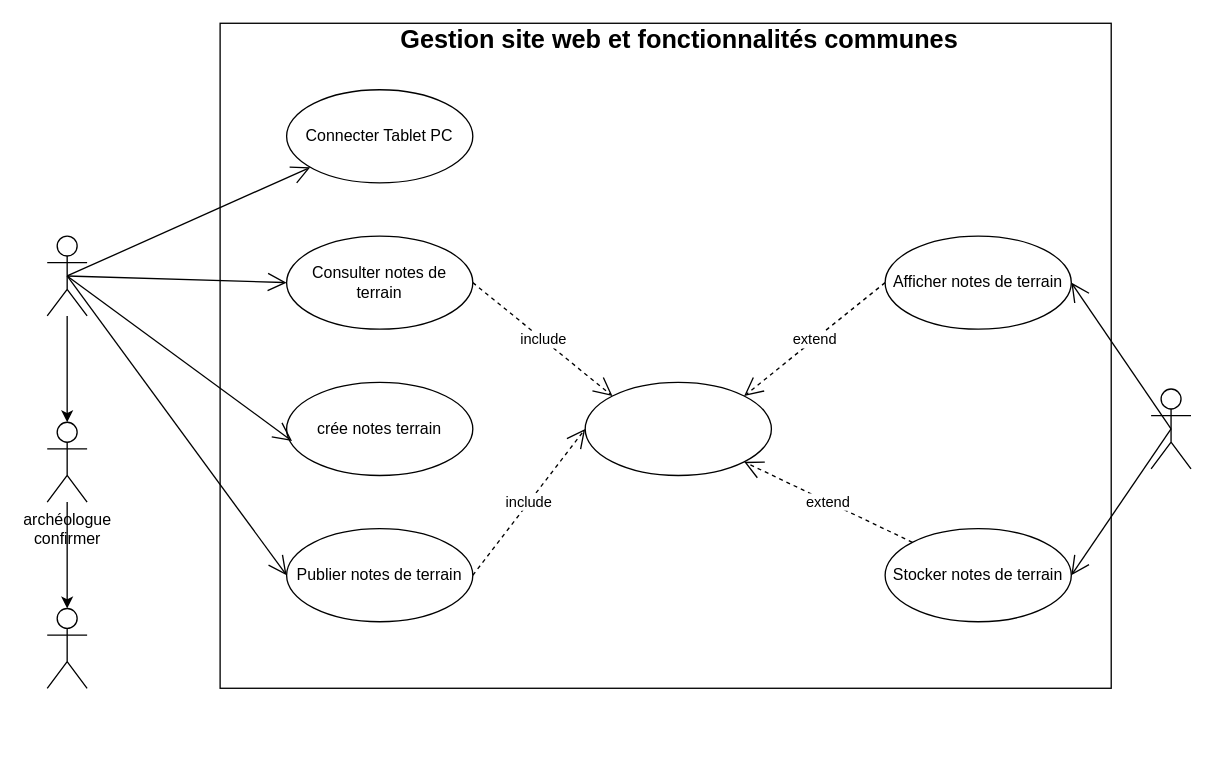
This 1224x759 diagram has some shape labels left out. The shapes that lost their labels are listed below. From the top down, each one's centre as x and y in pixels, then its label:
[66,275]: archéologue
[677,428]: Connexion site web
[1170,428]: Site web
[66,647]: archéologue apprentis
